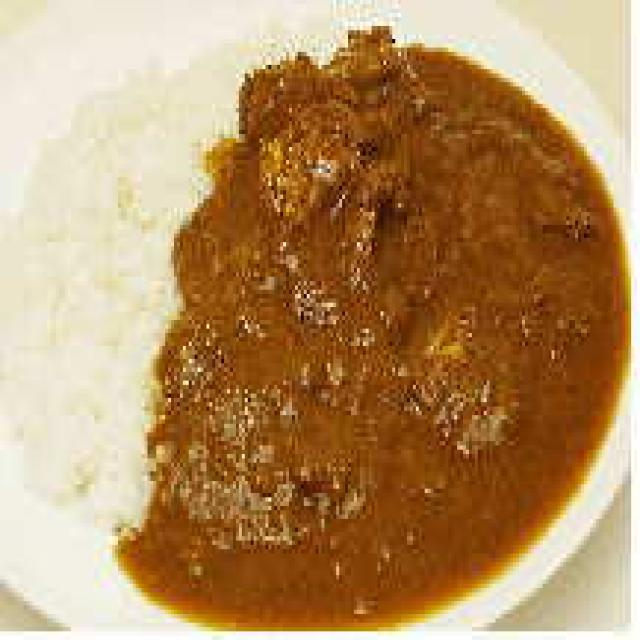牛肉菜式: (0, 0, 622, 622)
